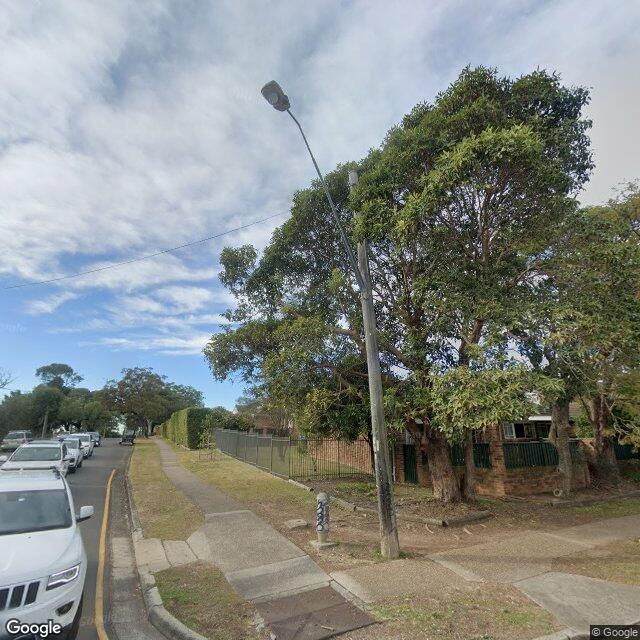streetlight: (260, 79, 368, 295)
timber-pole: (348, 170, 402, 561)
